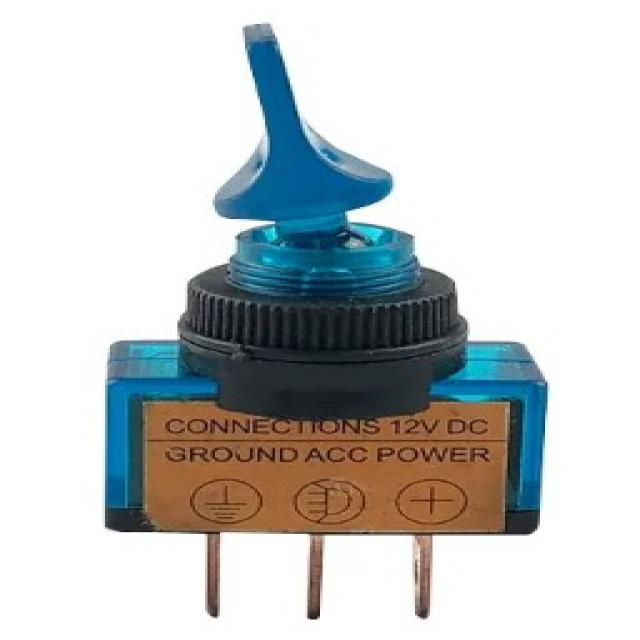toggle switch: (172, 24, 471, 422)
